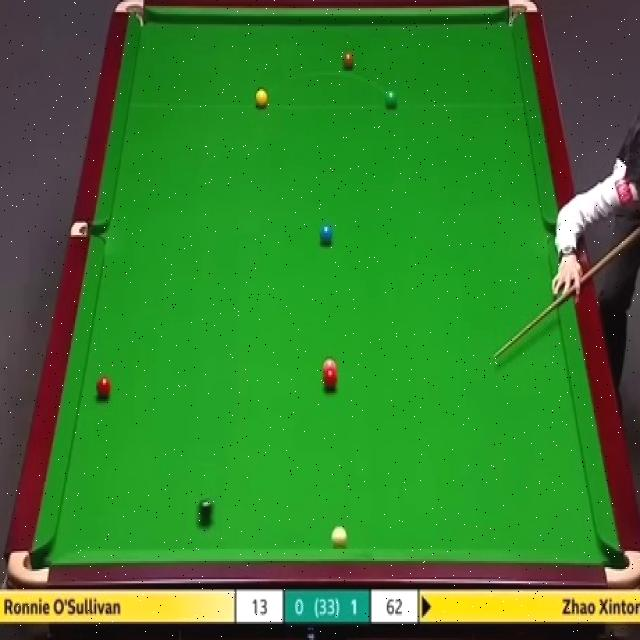black-ball: (198, 498, 213, 522)
blue-ball: (319, 223, 334, 244)
brown-ball: (341, 51, 355, 72)
green-ball: (384, 88, 397, 109)
pink-ball: (321, 358, 338, 368)
red-ball: (95, 376, 112, 402), (323, 370, 336, 392)
white-ball: (332, 526, 348, 546)
yellow-ball: (255, 90, 268, 110)
